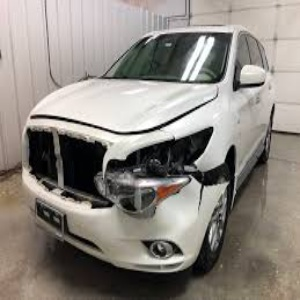bumper: (118, 183, 232, 257)
